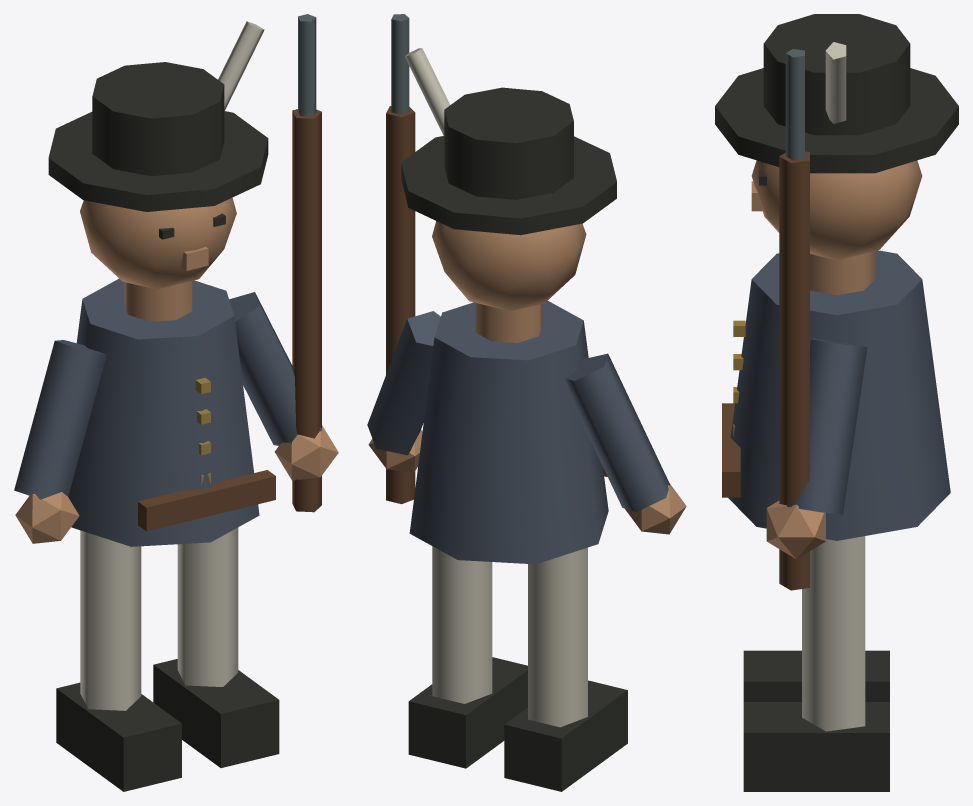
File: custom-person-musketeer.glb
The picture shows the model from 3 angles, left to right: view 1: azimuth 30°, elevation 25°; view 2: azimuth 150°, elevation 25°; view 3: azimuth 270°, elevation 25°; orthographic projection. The views are drawn at different scales.
Parts seen in each view (by area): view 1: custom-person-musketeer; view 2: custom-person-musketeer; view 3: custom-person-musketeer.
Part boxes in pixels (box(x1,y1,x2,y2)): custom-person-musketeer: box(14, 14, 338, 791); custom-person-musketeer: box(367, 14, 686, 791); custom-person-musketeer: box(715, 14, 958, 791).
Size of the model in its own units: 1 by 2.2 by 0.634.
